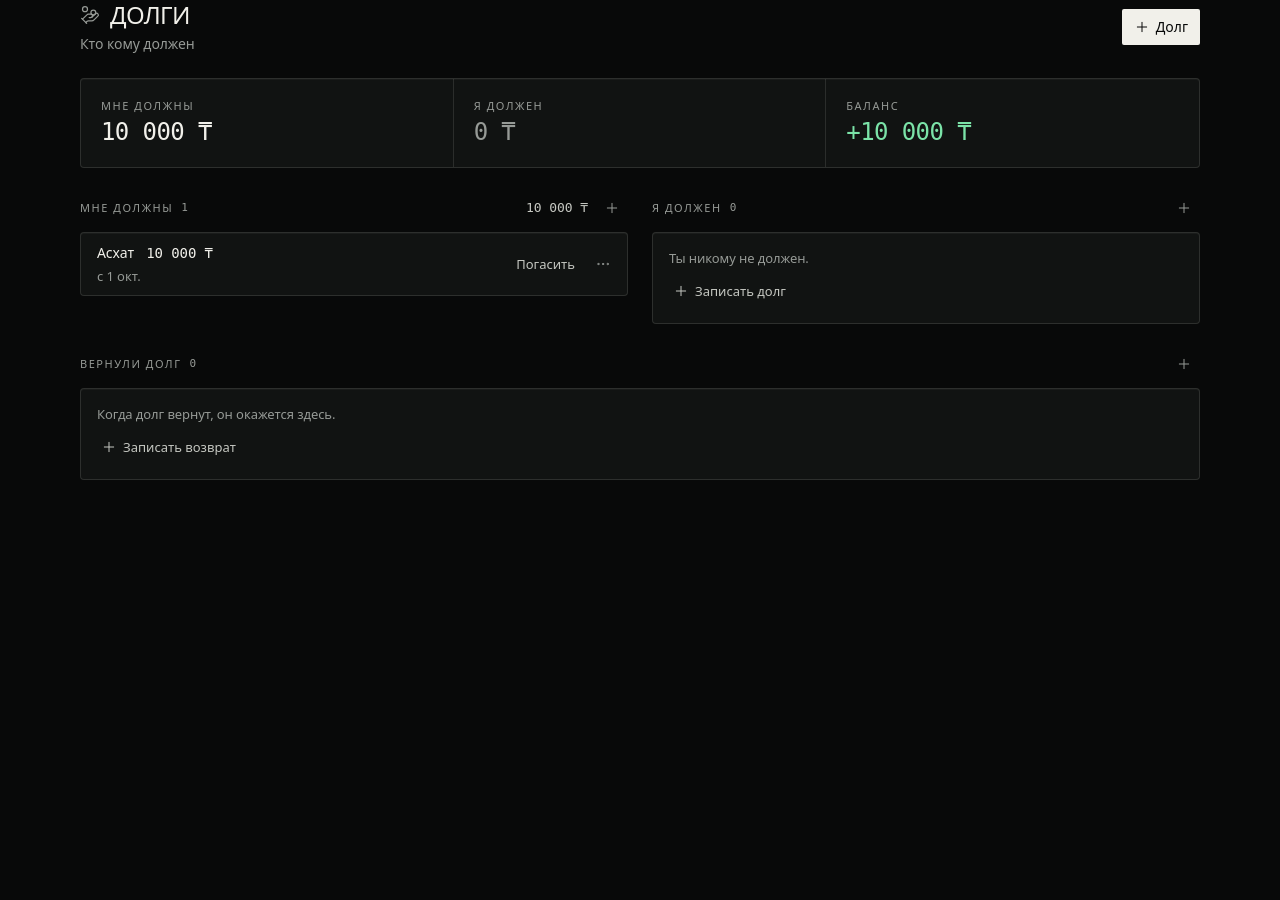
it: DebtsPage › does not accept a return bigger than what is left
The image size is (1280, 900).
Click the button named "Действия: Асхат".
click(603, 264)  # box top-left (587, 248), bottom-right (619, 280)
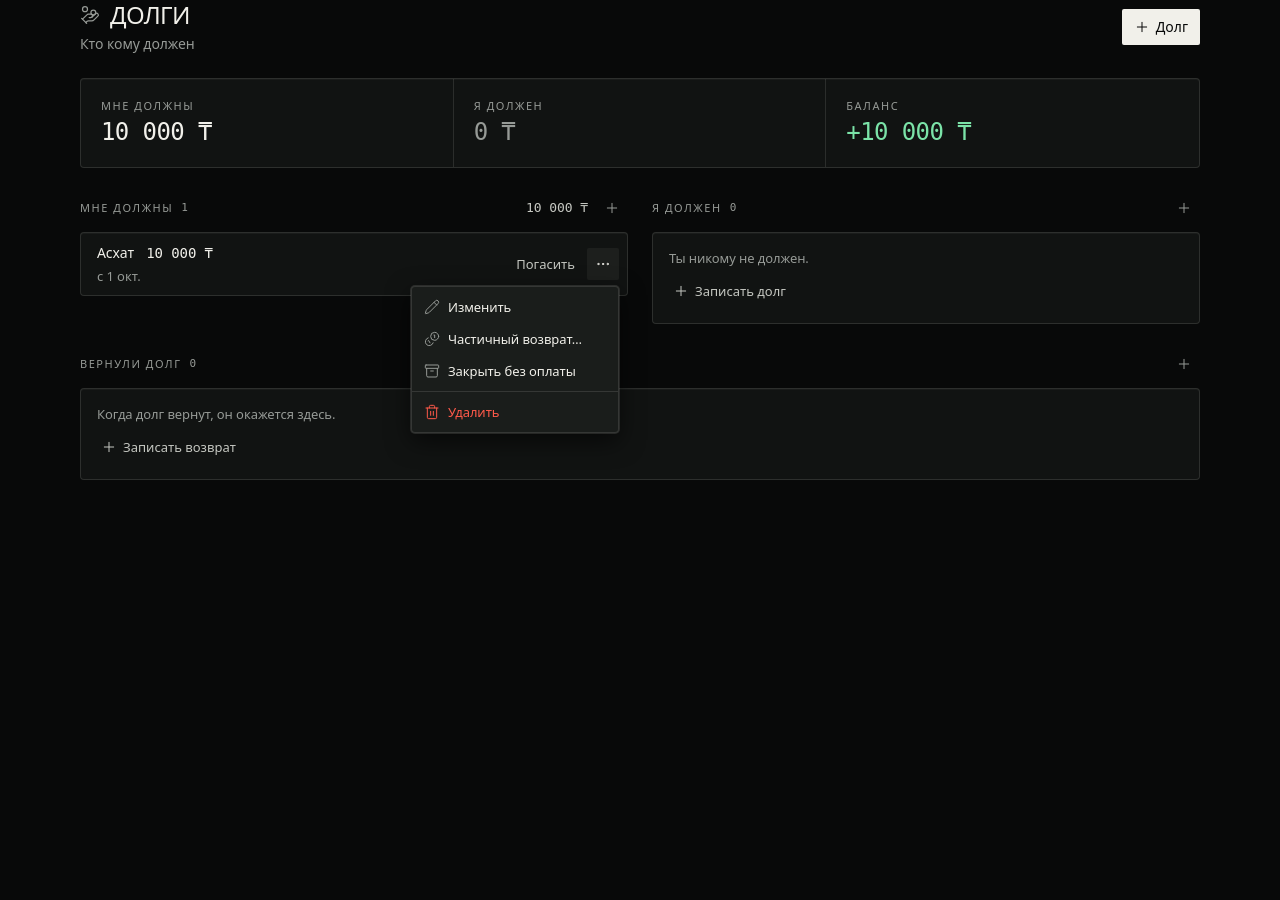
Click the menu item "Частичный возврат…".
click(515, 339)  # box top-left (416, 323), bottom-right (614, 355)
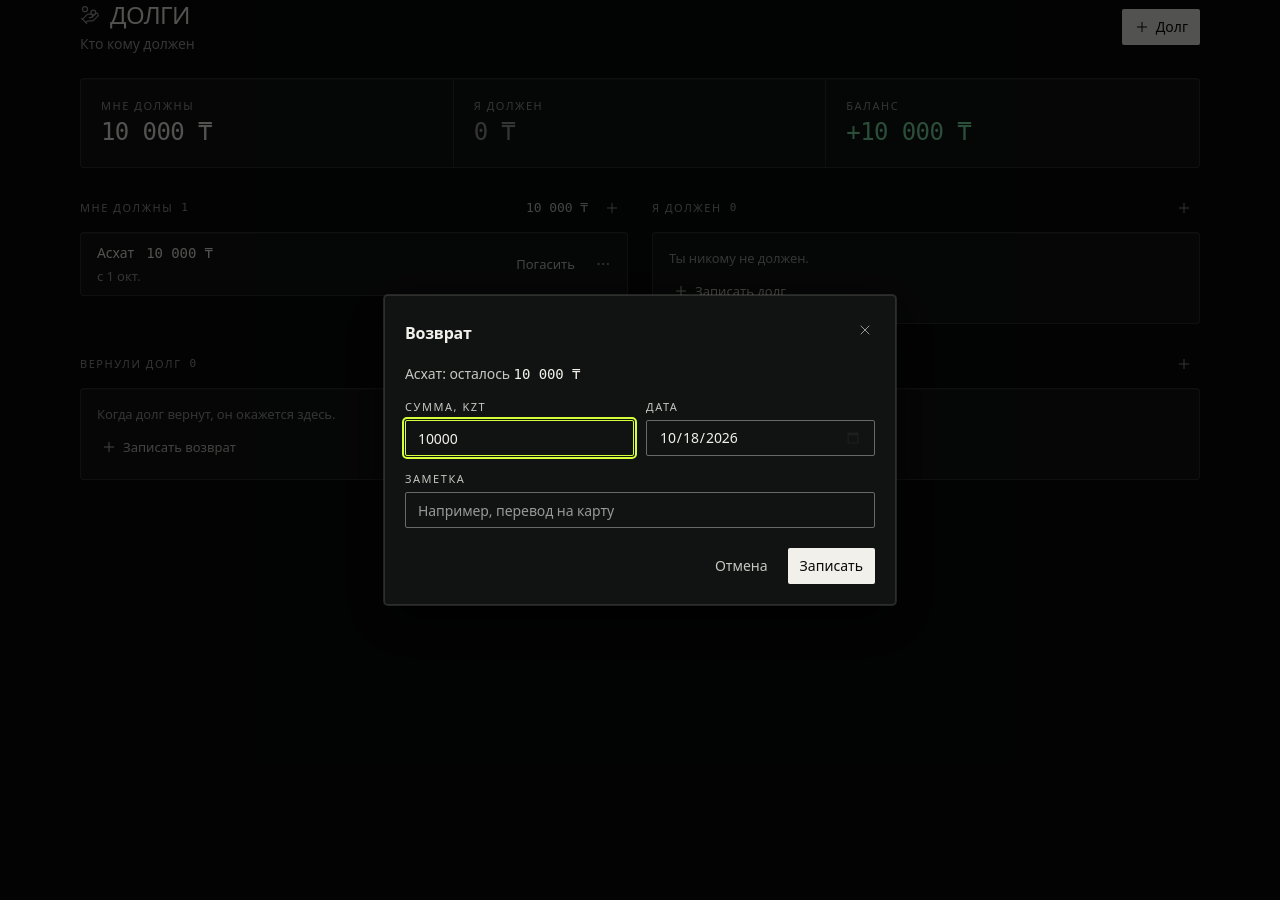
Replace the text in the field labelled "Сумма, KZT" with "15000" at (520, 438), box top-left (405, 420), bottom-right (634, 456)
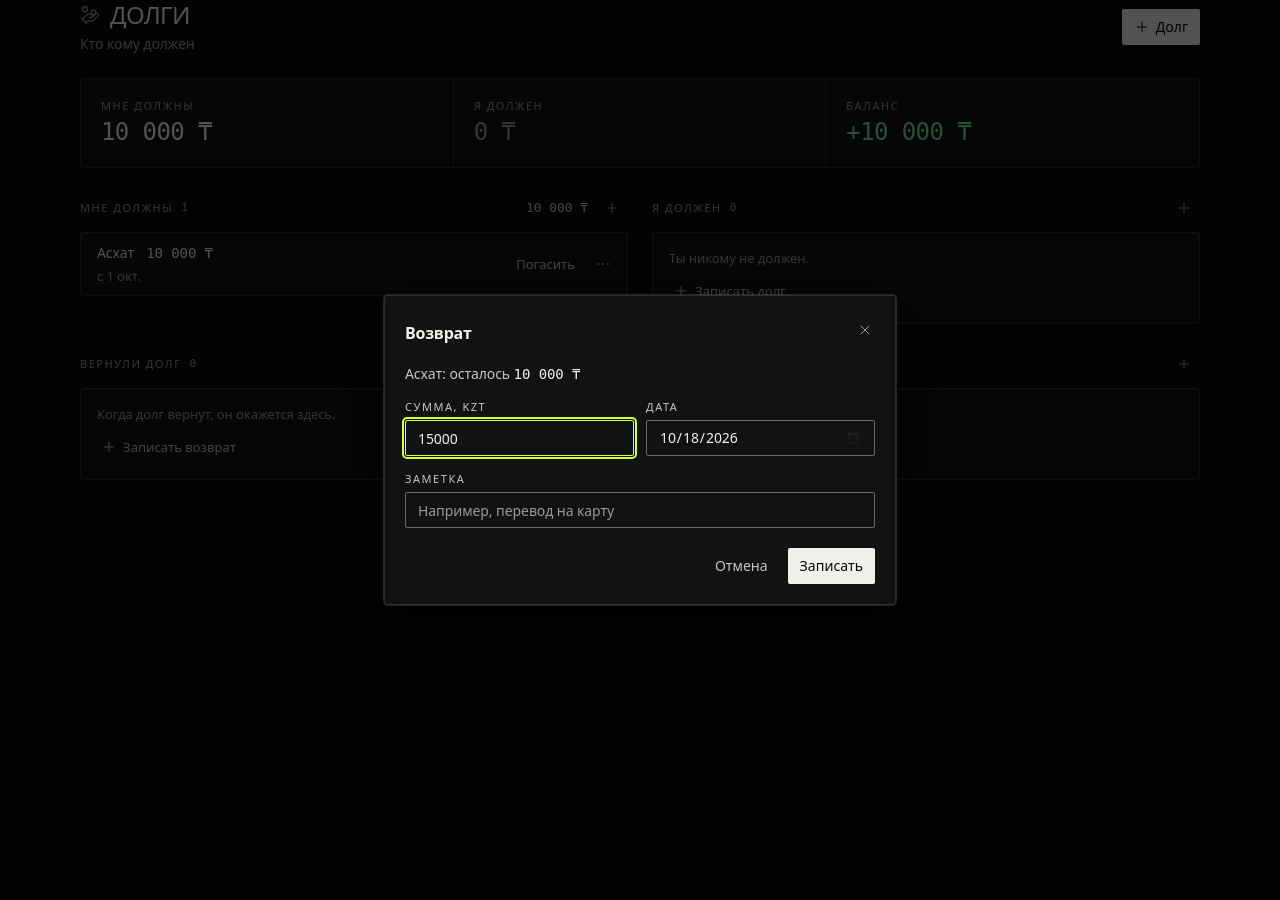
Click the button "Записать".
click(831, 566)  # box top-left (788, 548), bottom-right (875, 584)
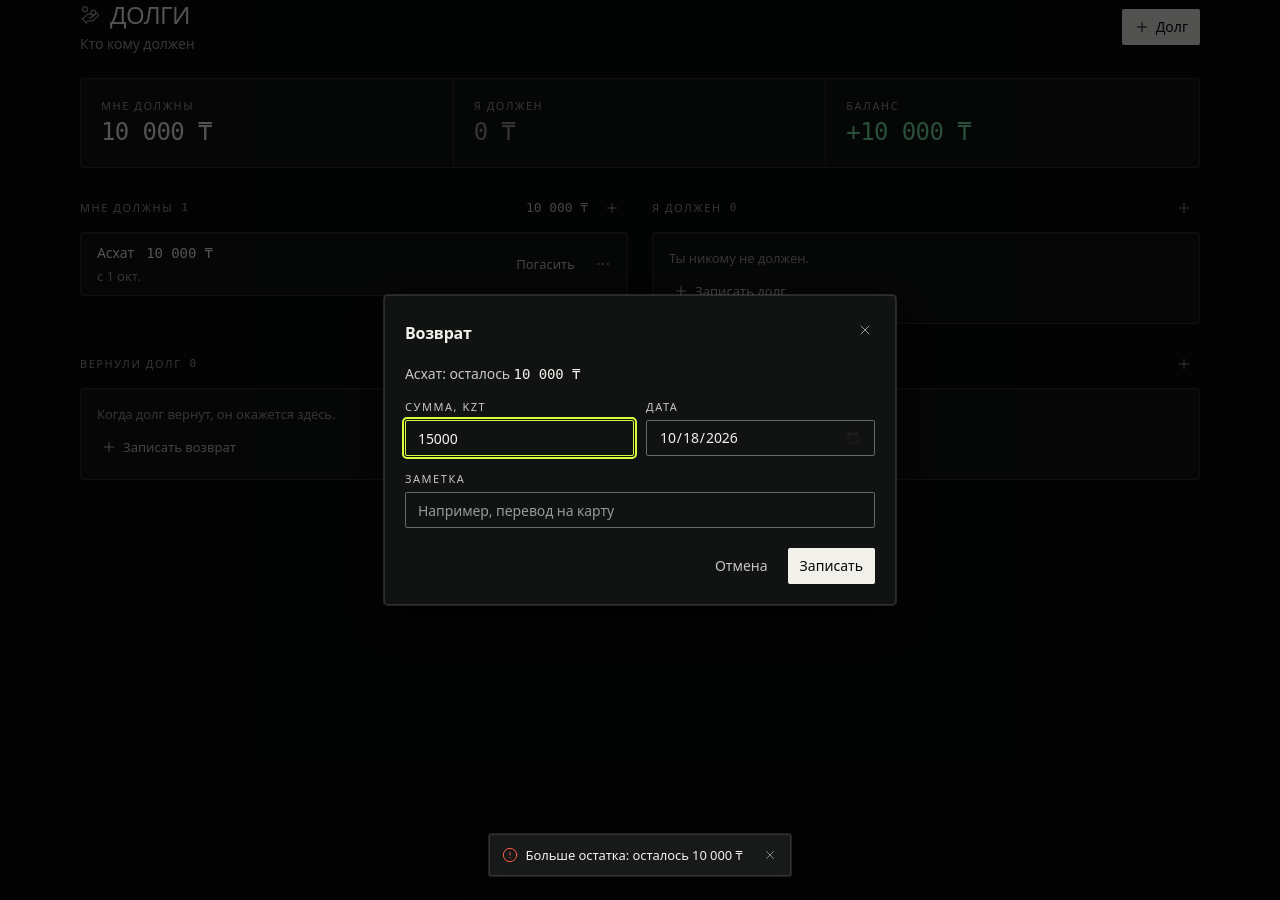
expect the text "Больше остатка: осталось 10 000 ₸" is shown: met, box top-left (526, 842), bottom-right (746, 868)
